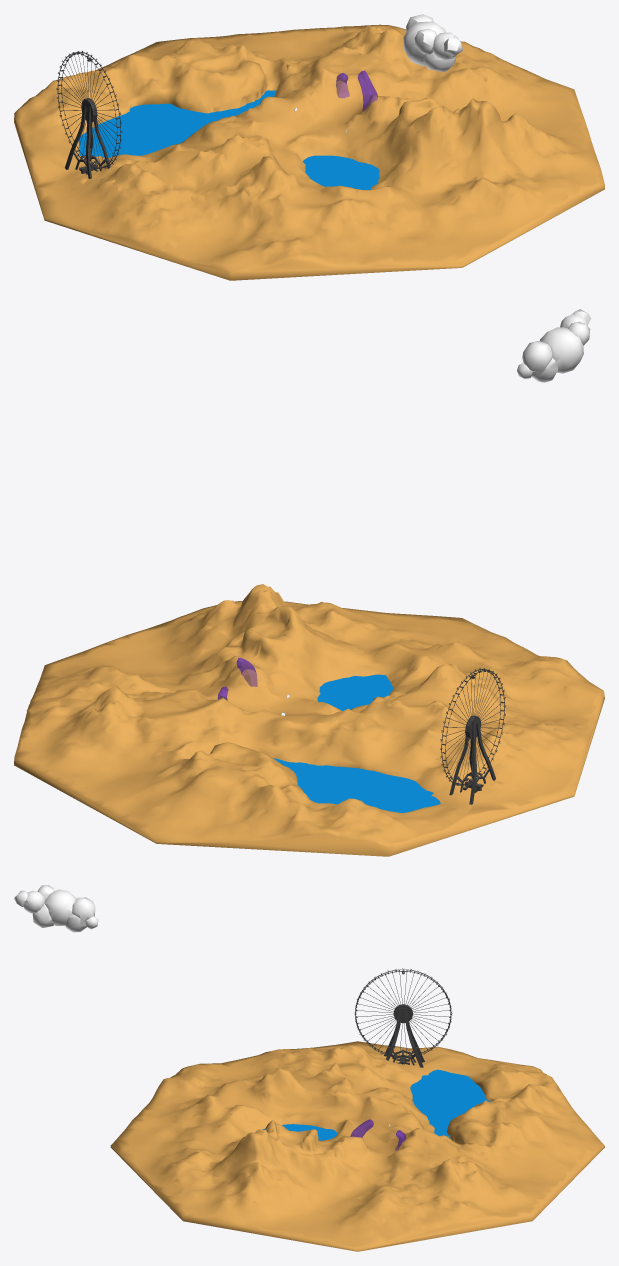
The model's file is lobby_deleted17.glb.
3 views of the same model, one above another, from view 1: azimuth 30°, elevation 25°; view 2: azimuth 150°, elevation 25°; view 3: azimuth 270°, elevation 25° (orthographic). The views are drawn at different scales.
Visible parts, largest first — view 1: Landscape, ocean 01, Object_2.004, wheel, ocean 02, Object_184.001, Object_20.001; view 2: Landscape, ocean 01, Object_2.004, wheel, ocean 02, Object_184.001; view 3: Landscape, ocean 01, Object_2.004, wheel, Object_184.001.
Part boxes in pixels (left/top/right/bottom): Landscape: left=14, top=24, right=604, bottom=280; ocean 01: left=78, top=90, right=276, bottom=157; Object_2.004: left=403, top=14, right=462, bottom=72; wheel: left=56, top=50, right=122, bottom=169; ocean 02: left=302, top=155, right=379, bottom=189; Object_184.001: left=65, top=101, right=110, bottom=178; Object_20.001: left=336, top=70, right=377, bottom=111; Landscape: left=14, top=584, right=604, bottom=856; ocean 01: left=273, top=758, right=440, bottom=813; Object_2.004: left=517, top=309, right=591, bottom=382; wheel: left=440, top=668, right=505, bottom=786; ocean 02: left=317, top=674, right=393, bottom=710; Object_184.001: left=449, top=718, right=495, bottom=804; Landscape: left=110, top=1041, right=604, bottom=1251; ocean 01: left=410, top=1069, right=490, bottom=1139; Object_2.004: left=14, top=885, right=98, bottom=932; wheel: left=354, top=968, right=452, bottom=1058; Object_184.001: left=384, top=1008, right=424, bottom=1067.
Bounding box in the file's own units: 490 × 284 × 586.
